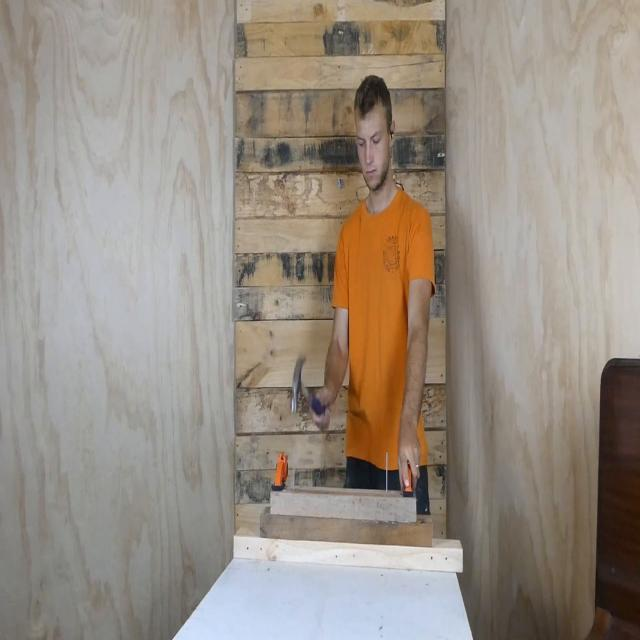hammer: (290, 354, 323, 416)
